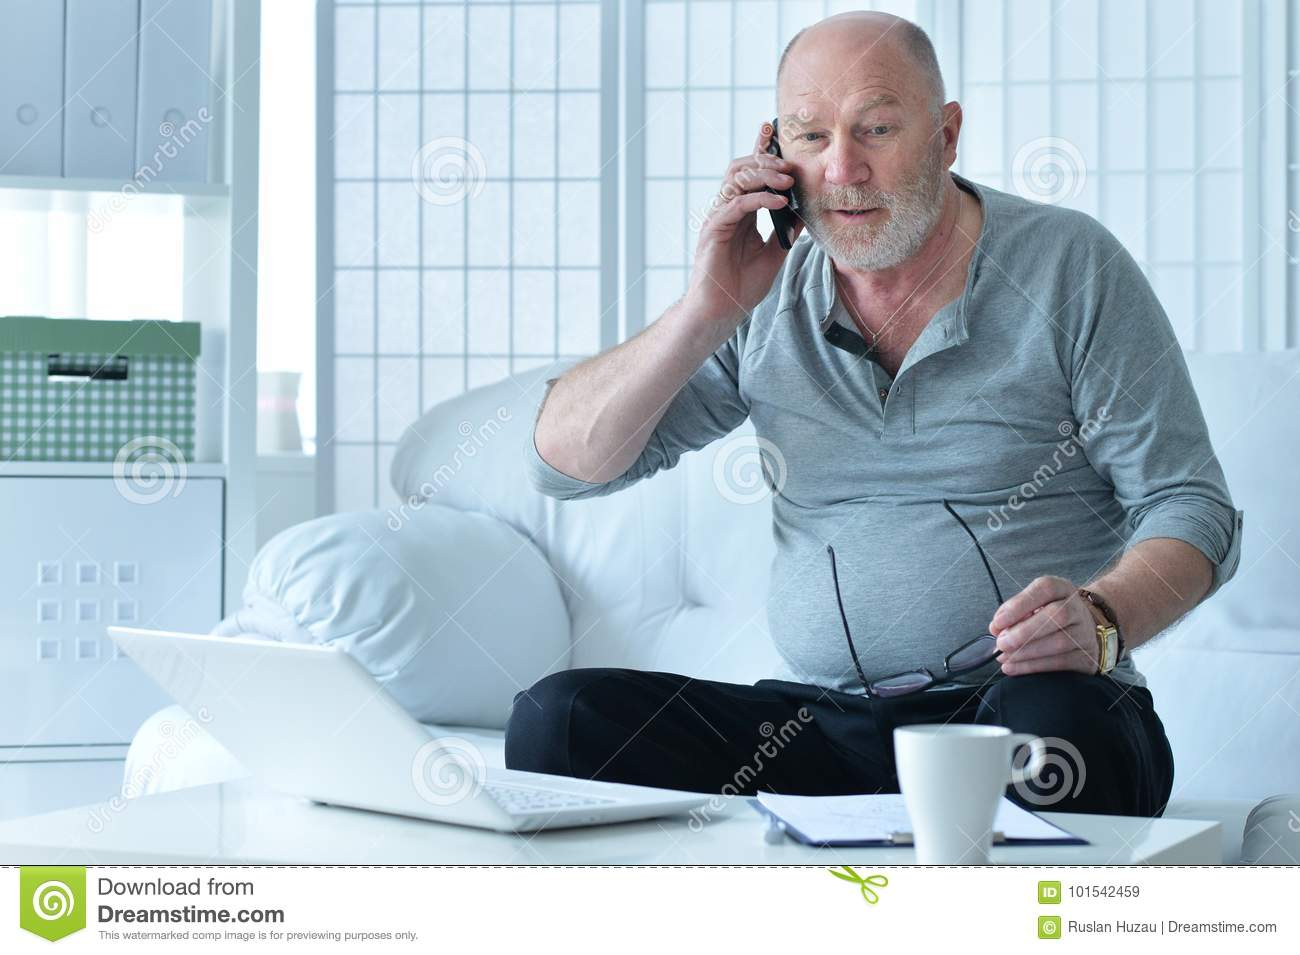phone: (759, 114, 801, 257)
talk: (695, 96, 920, 341)
